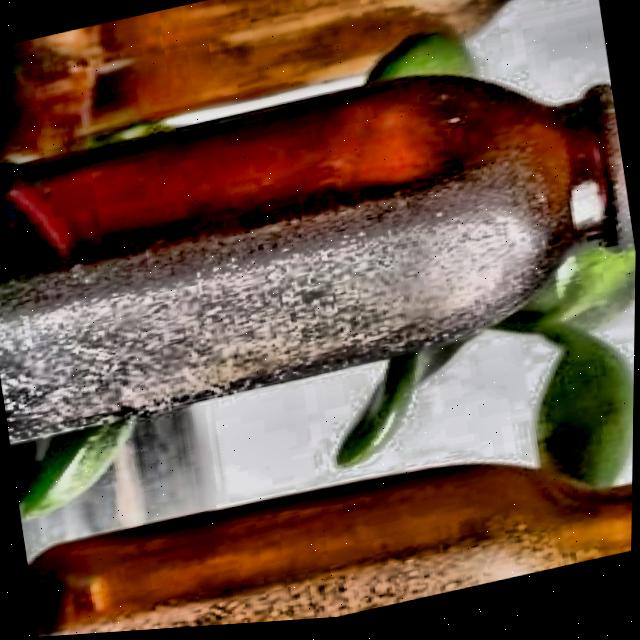glass: (0, 79, 634, 446), (30, 468, 634, 638), (84, 0, 568, 140)
